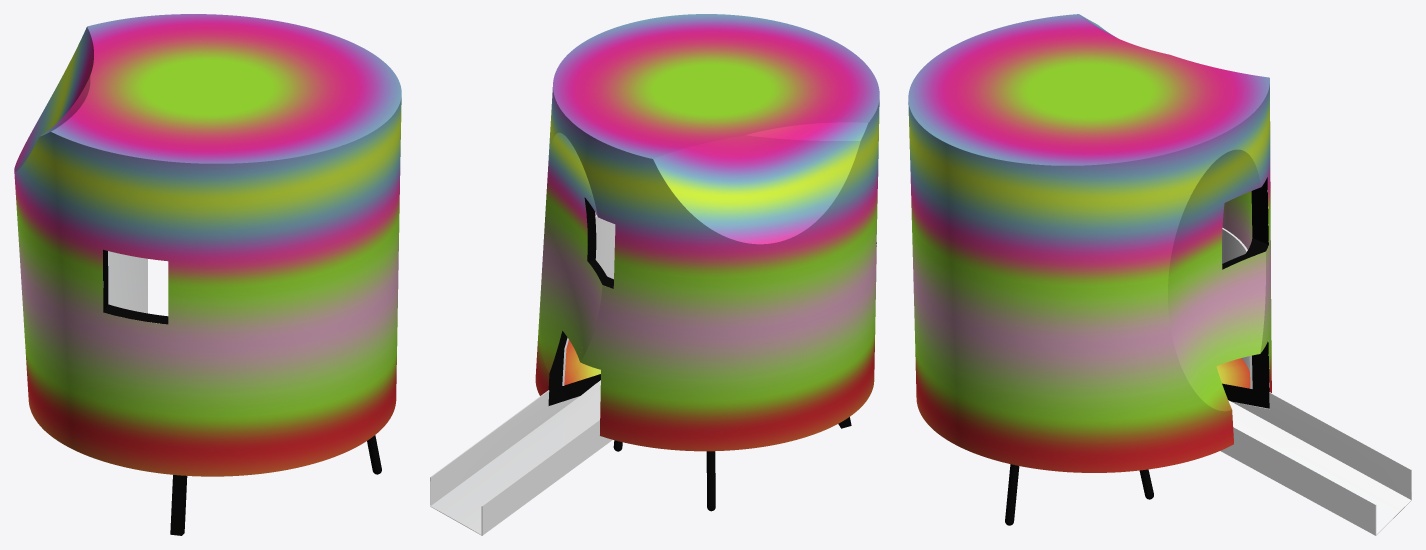
3 renders of one model, left to right at view 1: azimuth 30°, elevation 25°; view 2: azimuth 150°, elevation 25°; view 3: azimuth 270°, elevation 25°, orthographic. The views are drawn at different scales.
Parts seen in each view (by area): view 1: Solids, Display wall, Legs, Frames; view 2: Solids, Ramp, Frames, Display wall, Solids_2, Legs; view 3: Solids, Ramp, Frames, Solids_2, Legs, Display wall.
Boxes of the visible parts, x1,y1,x2,y2 form: Solids: (14, 14, 401, 476); Display wall: (103, 251, 147, 313); Legs: (170, 435, 381, 535); Frames: (103, 249, 168, 324); Solids: (535, 14, 879, 451); Ramp: (430, 380, 612, 535); Frames: (548, 197, 876, 405); Display wall: (562, 215, 615, 385); Solids_2: (564, 212, 600, 385); Legs: (613, 417, 851, 511); Solids: (908, 14, 1271, 472); Ramp: (1220, 392, 1411, 535); Frames: (1222, 177, 1269, 408); Solids_2: (1216, 191, 1252, 388); Legs: (1005, 464, 1153, 525); Display wall: (1222, 228, 1252, 388).
Size of the model in its own units: 16.18 by 18.12 by 22.09.
Materials: 3 (3 with a texture image).
